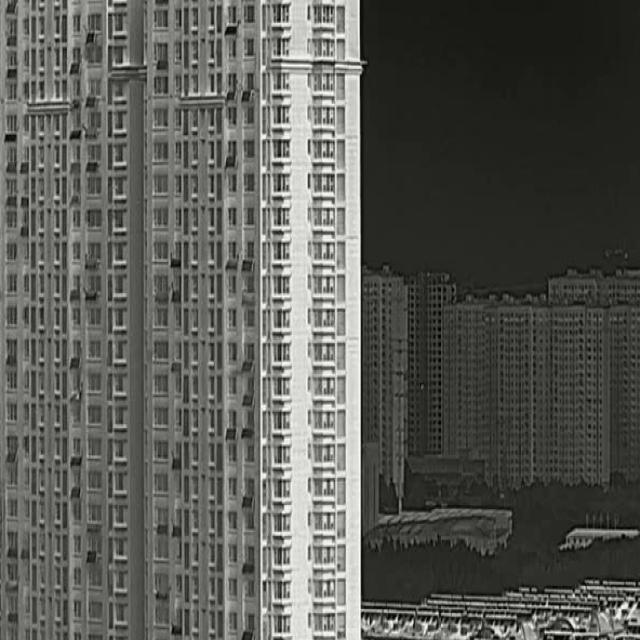drone: (421, 383, 424, 390)
